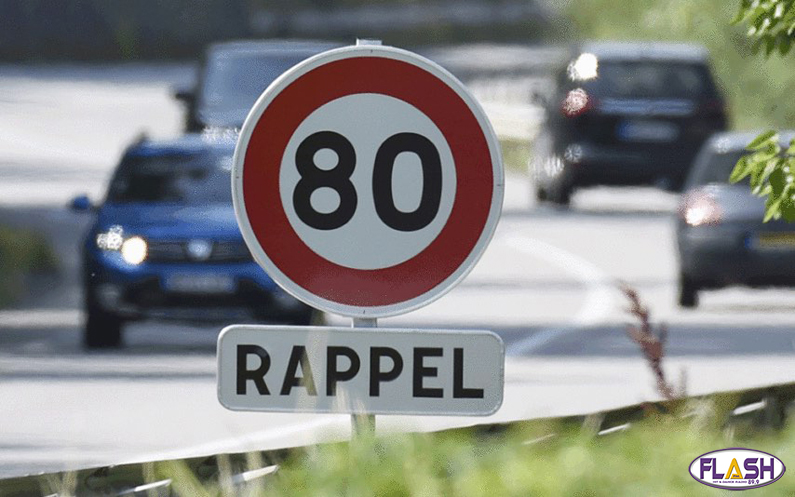Speed_limit_80km: (232, 44, 504, 322)
